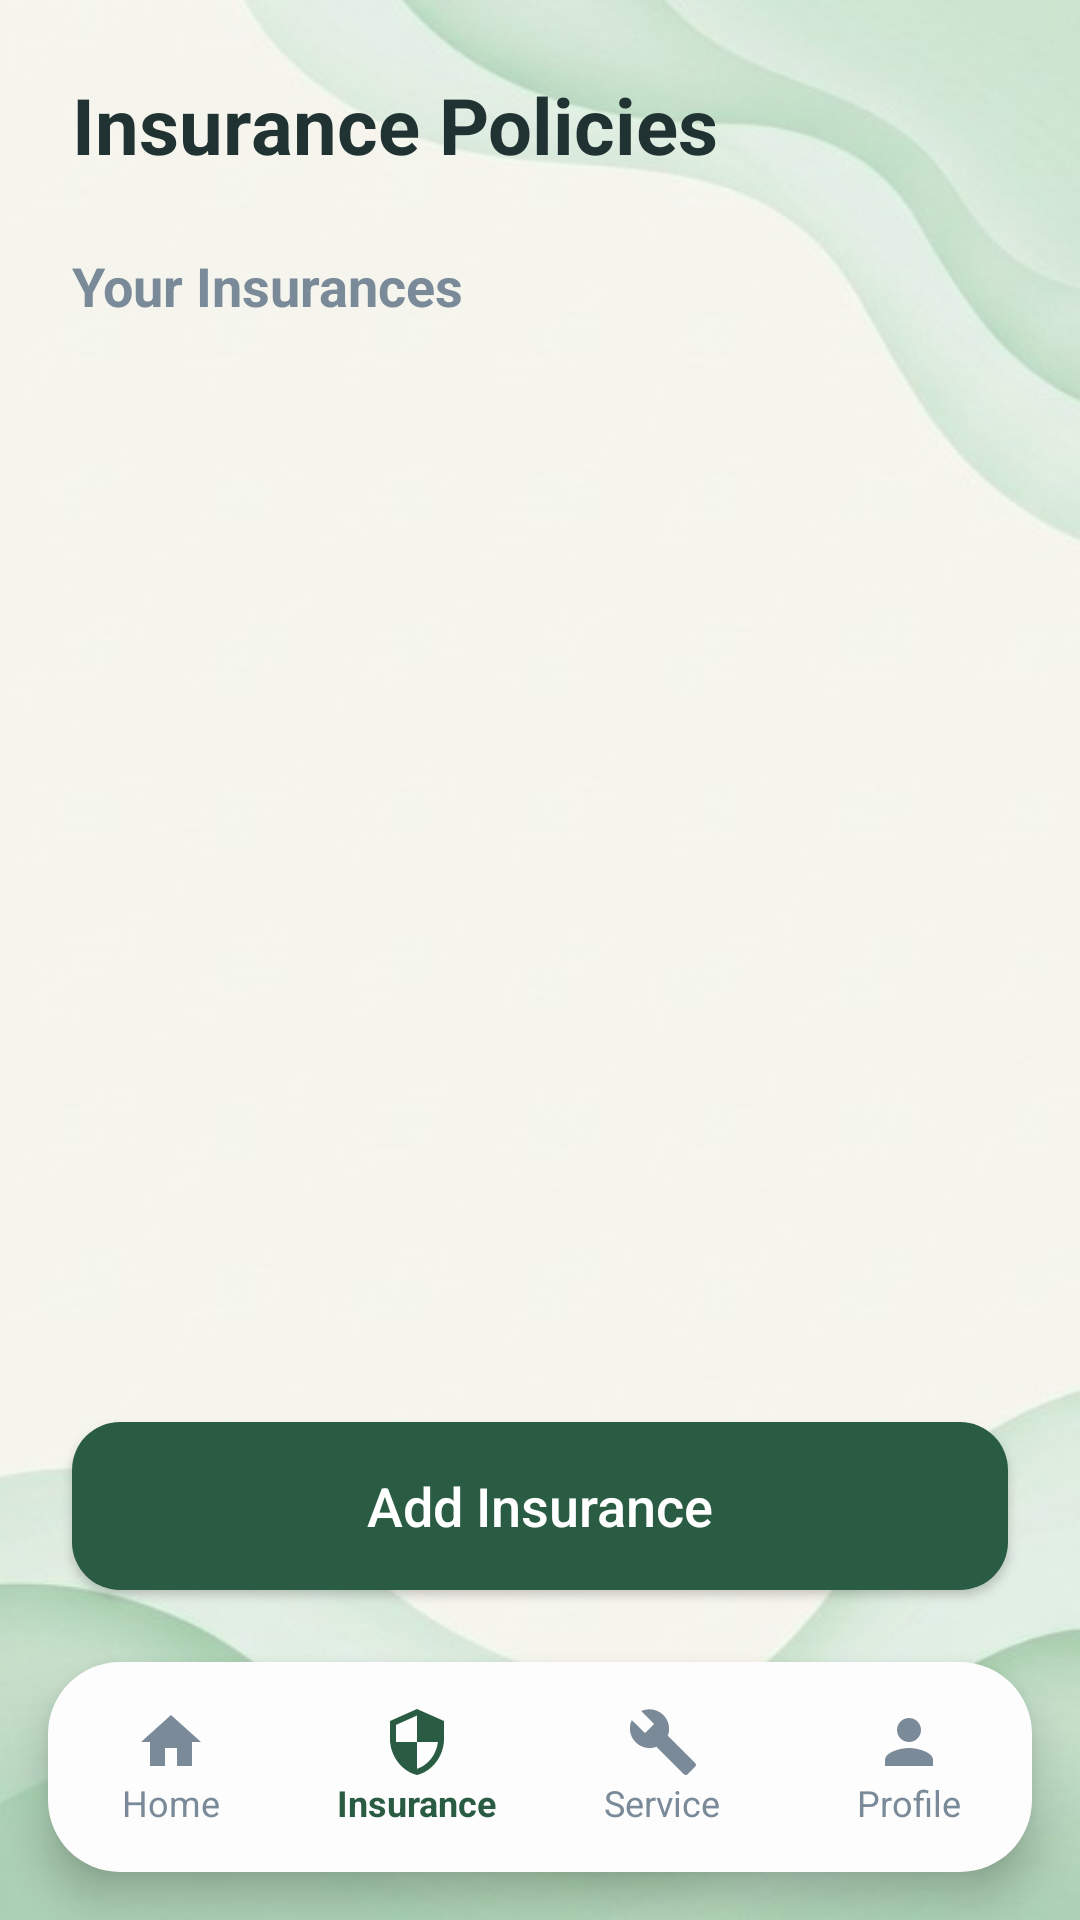

Icon bounding boxes for this 1080 x 1920 phone screenshot, format (x1, y1, x2, y2):
person: (885, 1718, 933, 1766)
